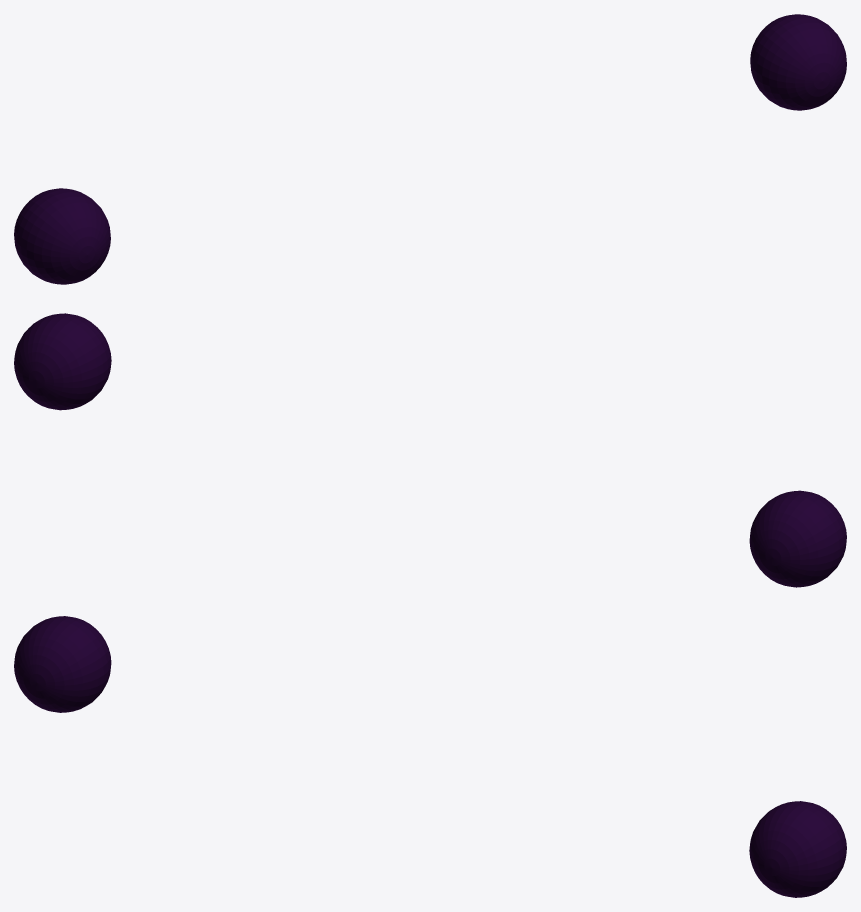
Rendered from lenses.dae.
3 renders of one model, top to bottom at view 1: azimuth 30°, elevation 25°; view 2: azimuth 150°, elevation 25°; view 3: azimuth 330°, elevation 25°, orthographic.
Visible parts, largest first — view 1: Rigth_Cam, Left_Cam; view 2: Rigth_Cam, Left_Cam; view 3: Rigth_Cam, Left_Cam.
Boxes of the visible parts, bbox=[...] form: Rigth_Cam: bbox=[750, 14, 846, 110]; Left_Cam: bbox=[14, 188, 110, 284]; Rigth_Cam: bbox=[14, 313, 111, 410]; Left_Cam: bbox=[749, 490, 846, 587]; Rigth_Cam: bbox=[749, 801, 846, 897]; Left_Cam: bbox=[14, 616, 111, 712].
Size of the model in its own units: 0.1457 by 0.0161 by 0.0155.
